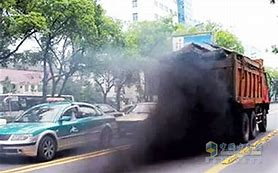smoke: (125, 70, 247, 170)
